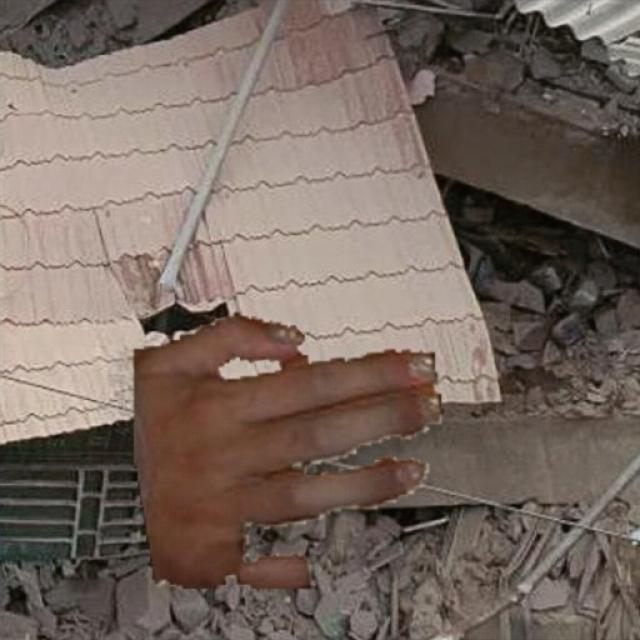Person in Rubble: (134, 312, 442, 588)
